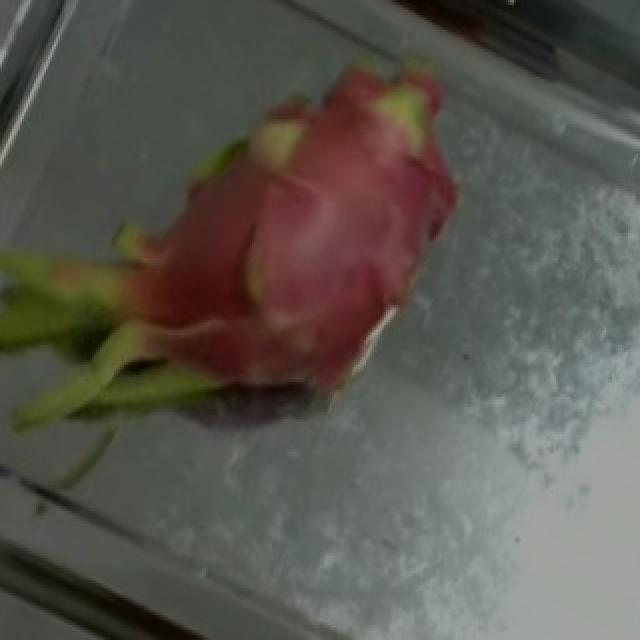fruit: (10, 28, 420, 482)
